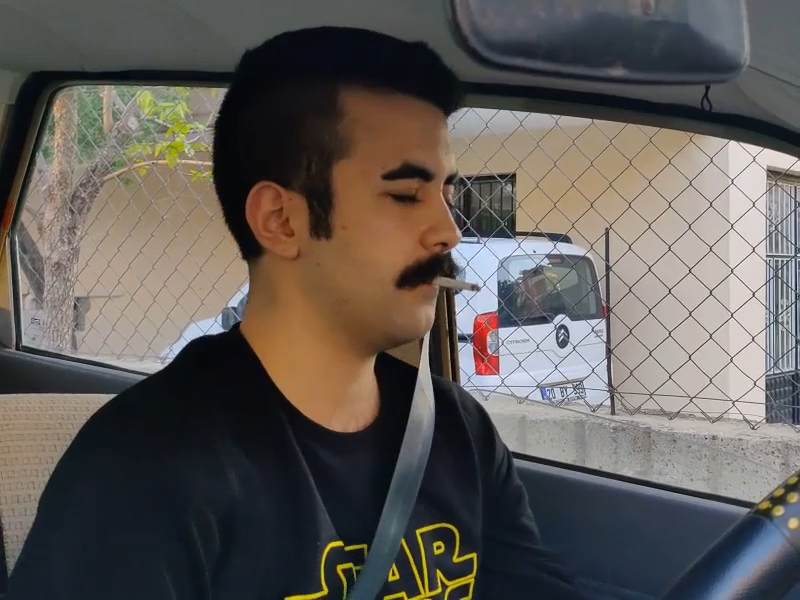sigara: (431, 272, 486, 296)
